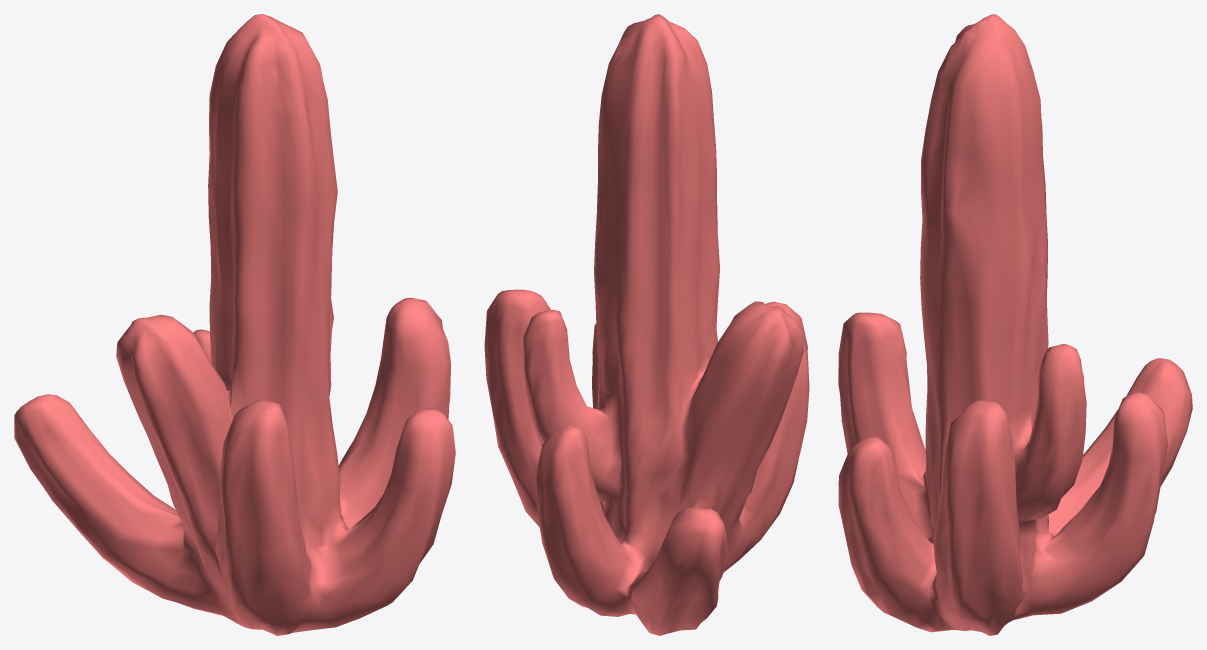
File: cactus05.fbx
The picture shows the model from 3 angles, left to right: view 1: azimuth 30°, elevation 25°; view 2: azimuth 150°, elevation 25°; view 3: azimuth 270°, elevation 25°; orthographic projection. The views are drawn at different scales.
Visible parts, largest first — view 1: Merged_PM3D_Ring3D2_4; view 2: Merged_PM3D_Ring3D2_4; view 3: Merged_PM3D_Ring3D2_4.
Part boxes in pixels (left/top/right/bottom): Merged_PM3D_Ring3D2_4: left=14, top=14, right=455, bottom=635; Merged_PM3D_Ring3D2_4: left=484, top=14, right=809, bottom=635; Merged_PM3D_Ring3D2_4: left=838, top=14, right=1192, bottom=635.
Size of the model in its own units: 7.3 by 12.52 by 6.77.
